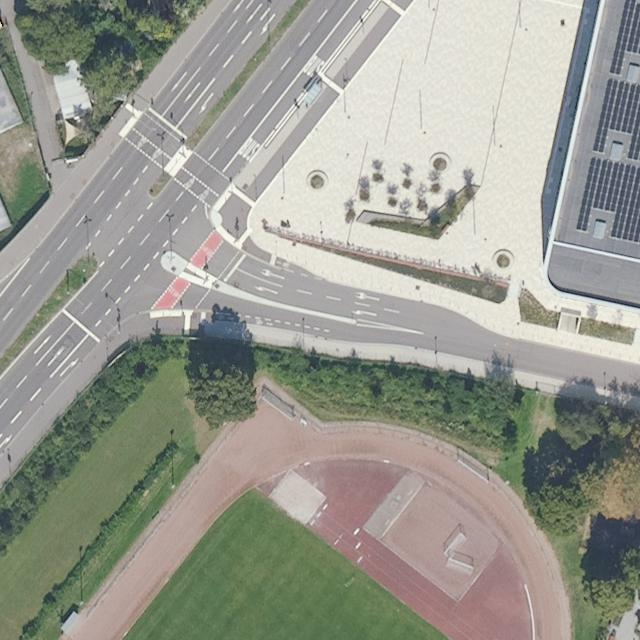PV: (574, 156, 640, 242), (590, 74, 640, 162), (609, 0, 639, 76)
